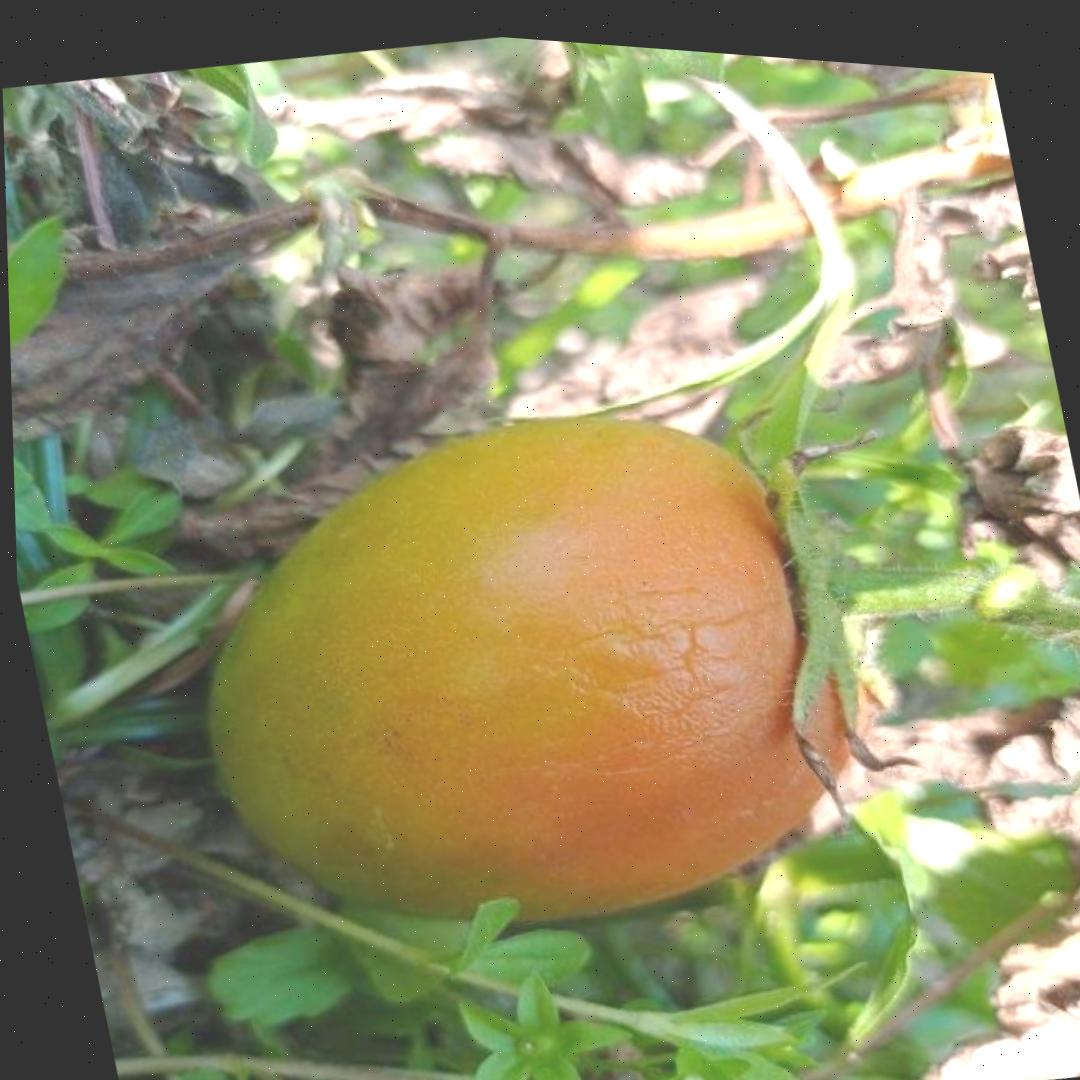setengah_matang: (140, 342, 902, 1001)
